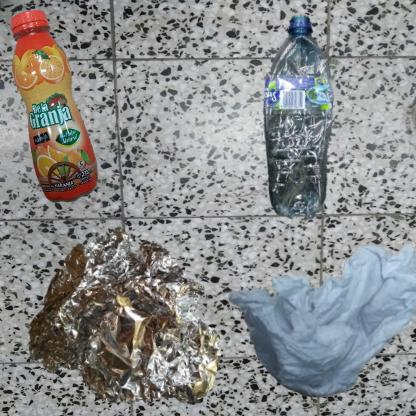aluminio: (10, 213, 236, 416)
botella: (213, 10, 416, 284), (10, 10, 98, 203)
papel: (213, 213, 416, 416)
